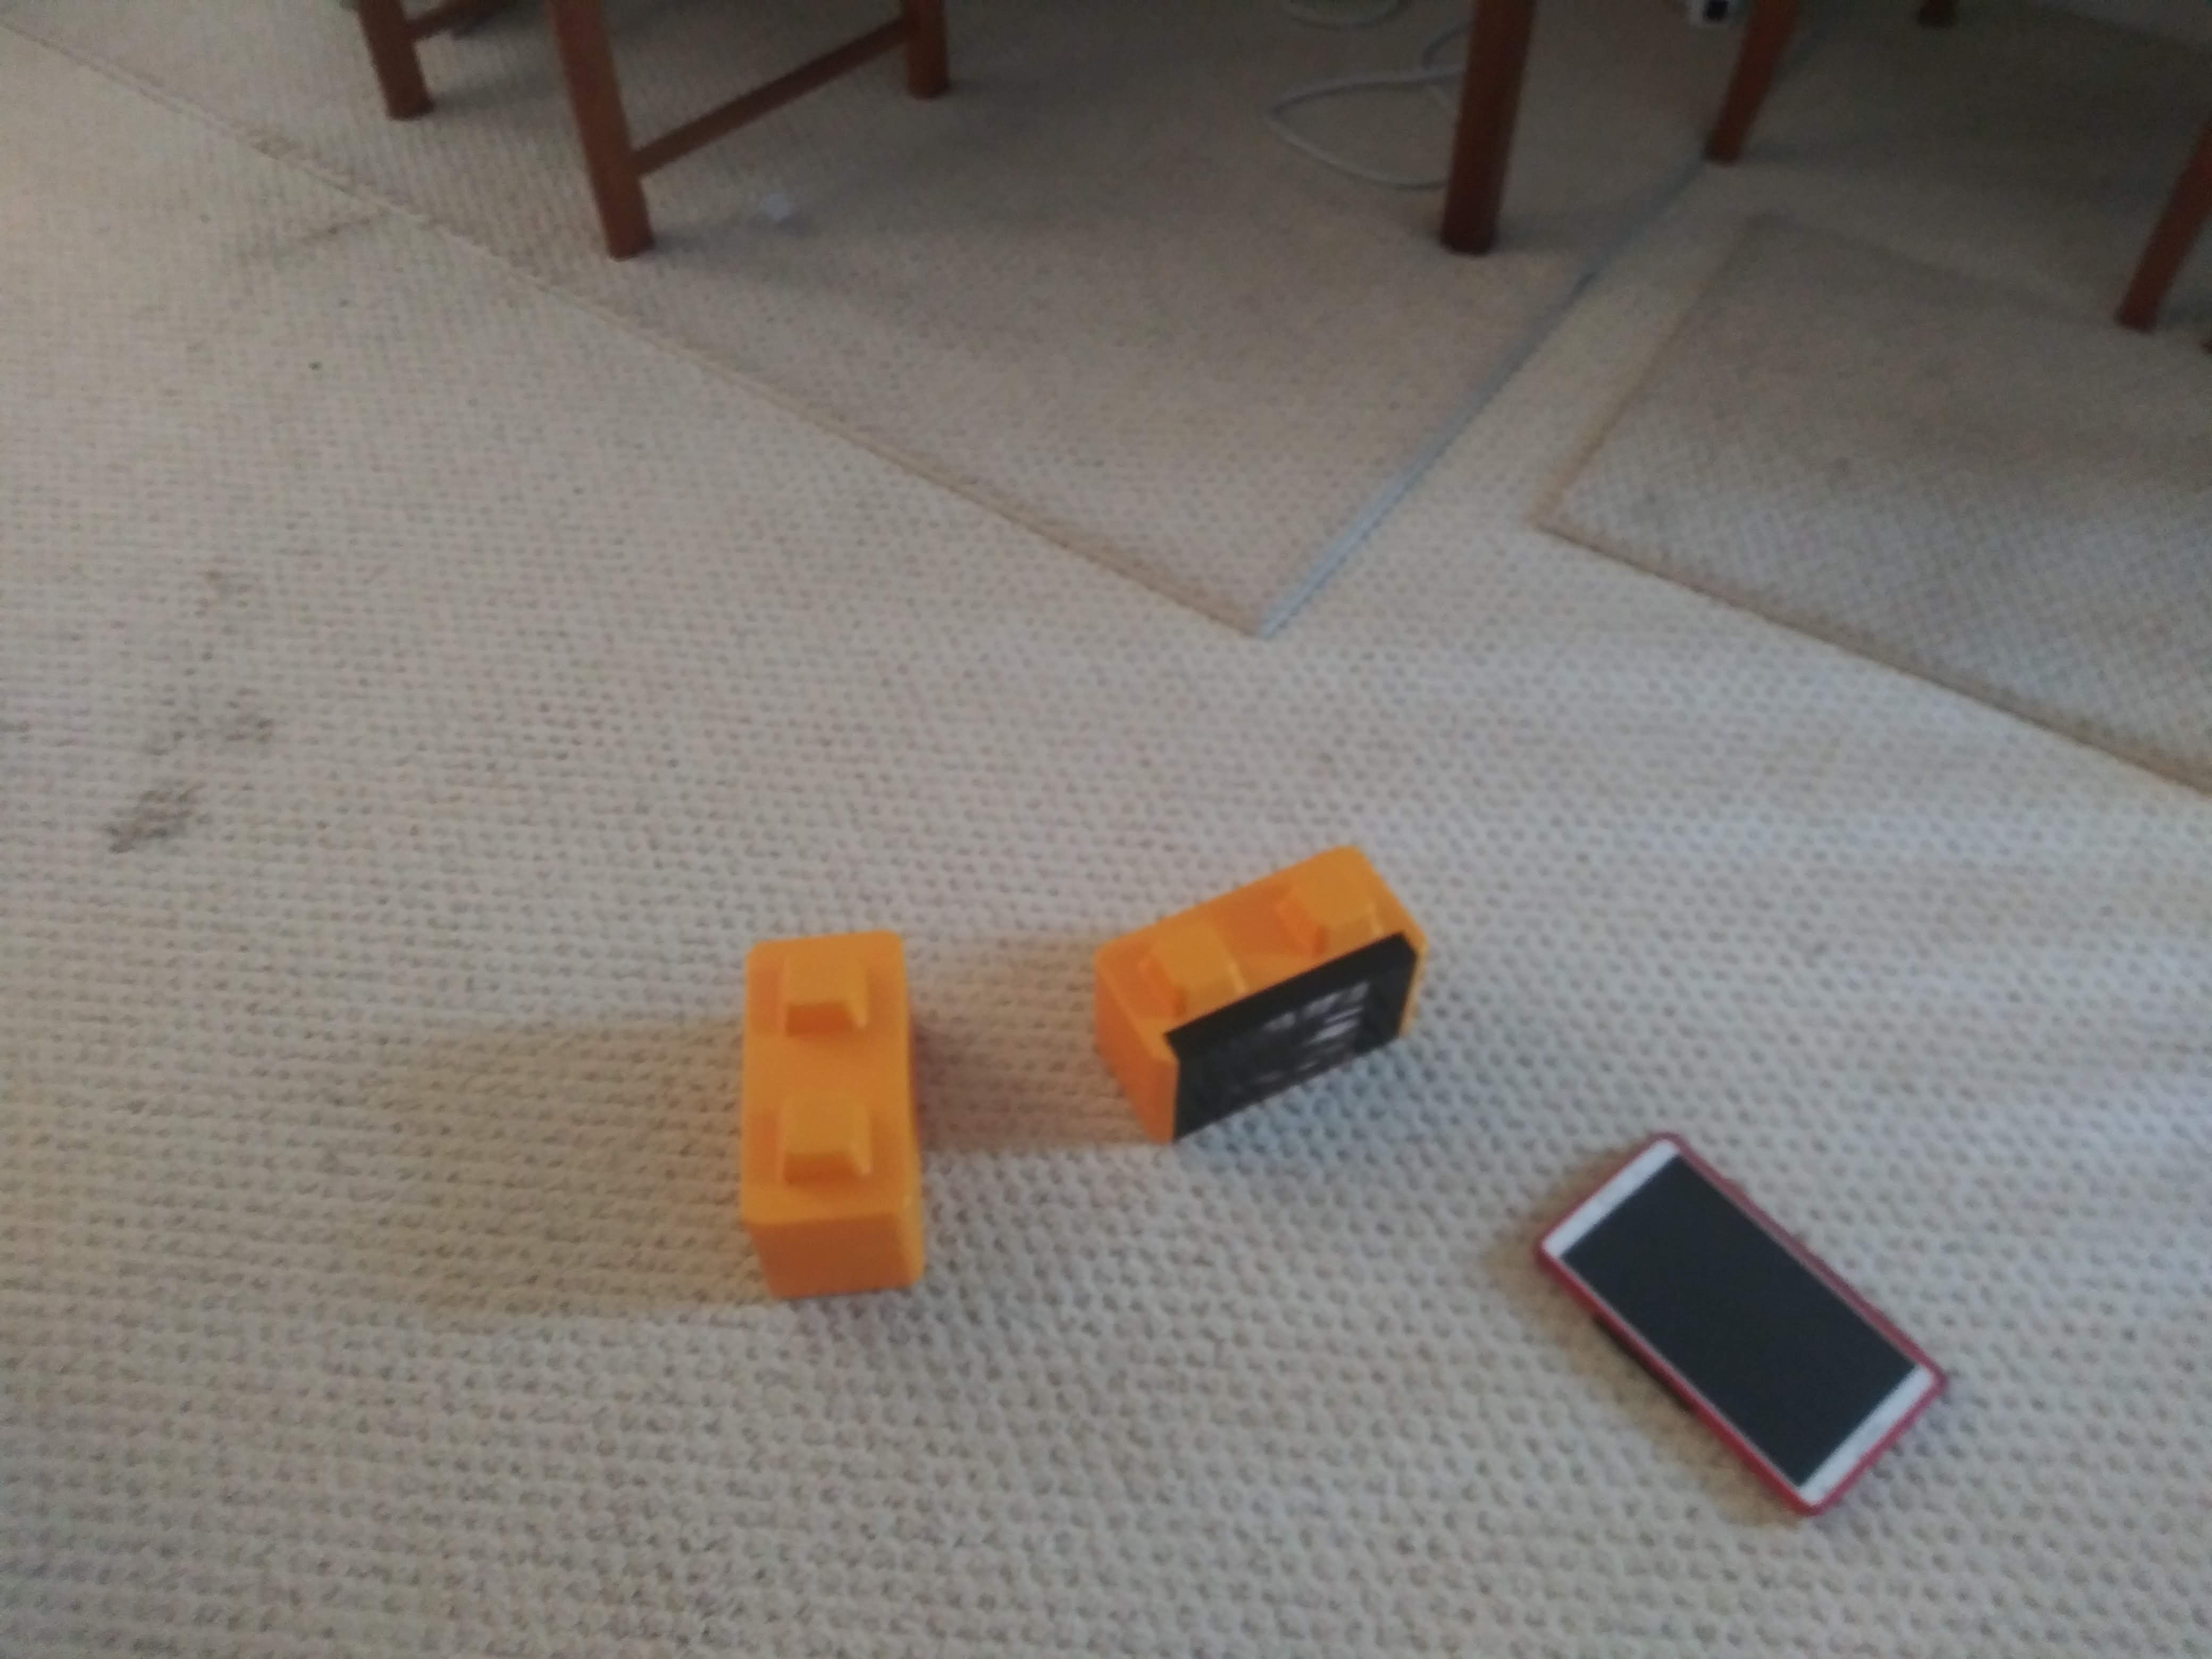skystone: (1097, 873, 1426, 1127)
stone: (728, 927, 935, 1302)
